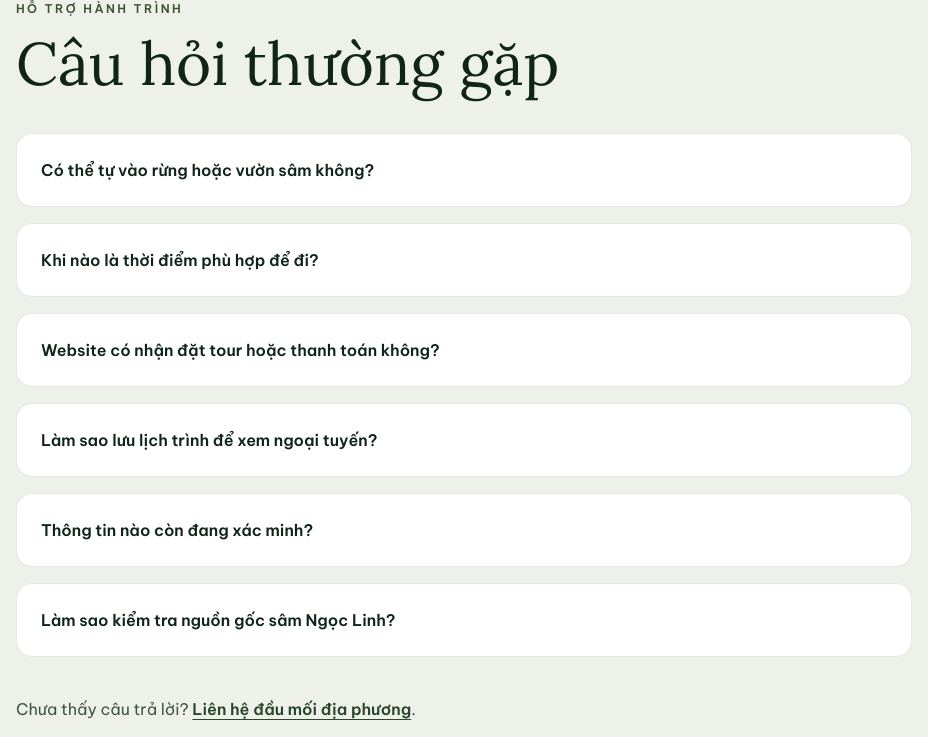
remaining 10,000-user feedback › explains that ginseng authenticity must be confirmed through official channels
This screenshot has width=928, height=737.
(page scrolled)
Click the heading "Làm sao kiểm tra nguồn gốc sâm Ngọc Linh?" at x=218, y=620, box [41,610,396,630]
(page scrolled)
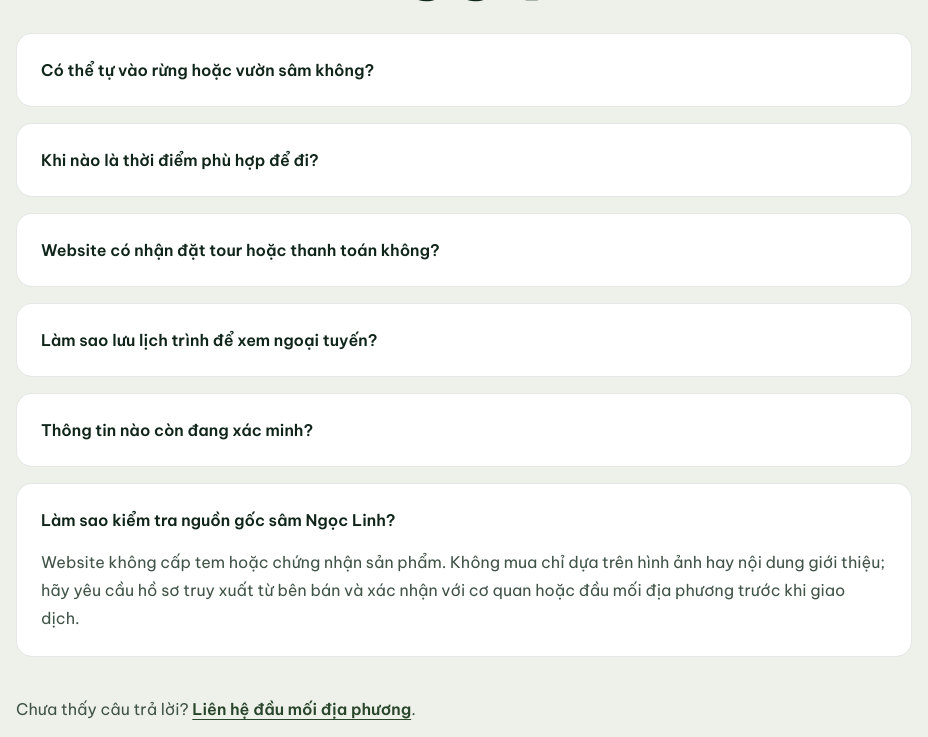
Expected: the link "Liên hệ đầu mối địa phương" is shown, [192,699,411,719]
Now the text "Website không cấp tem hoặc chứng nhận sản phẩm" is shown, box [41,552,885,628]
